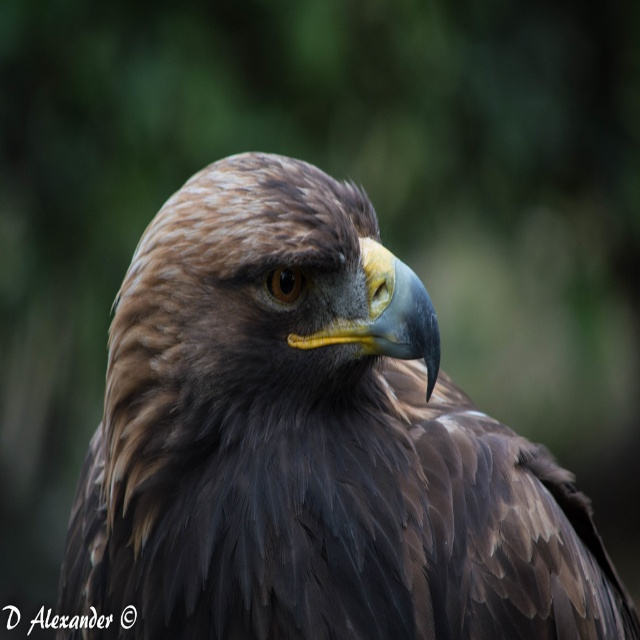Eagle: (47, 144, 640, 639)
